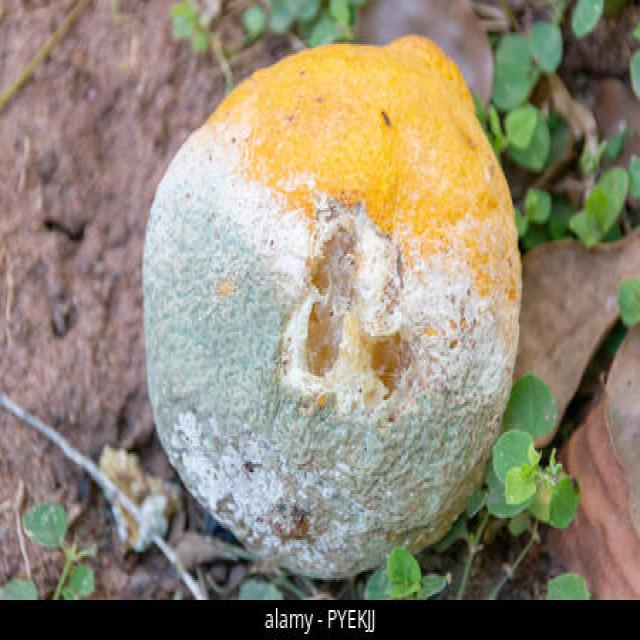Rotten: (141, 31, 525, 583)
